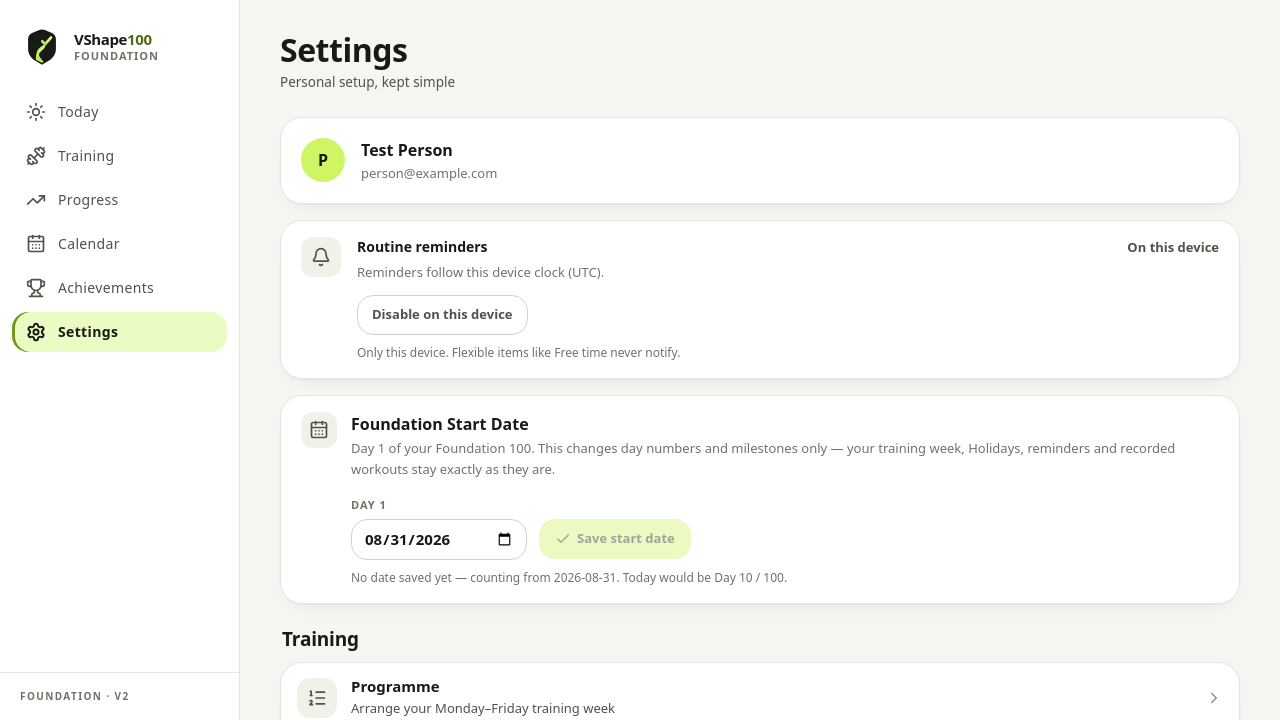
Test case: 4. an already-enabled device › says so honestly when disabling only half worked
Expected: the heading "Settings" is shown, [280,28,407,71]
Click the button "Disable on this device" at x=442, y=315, box [357,295,528,335]
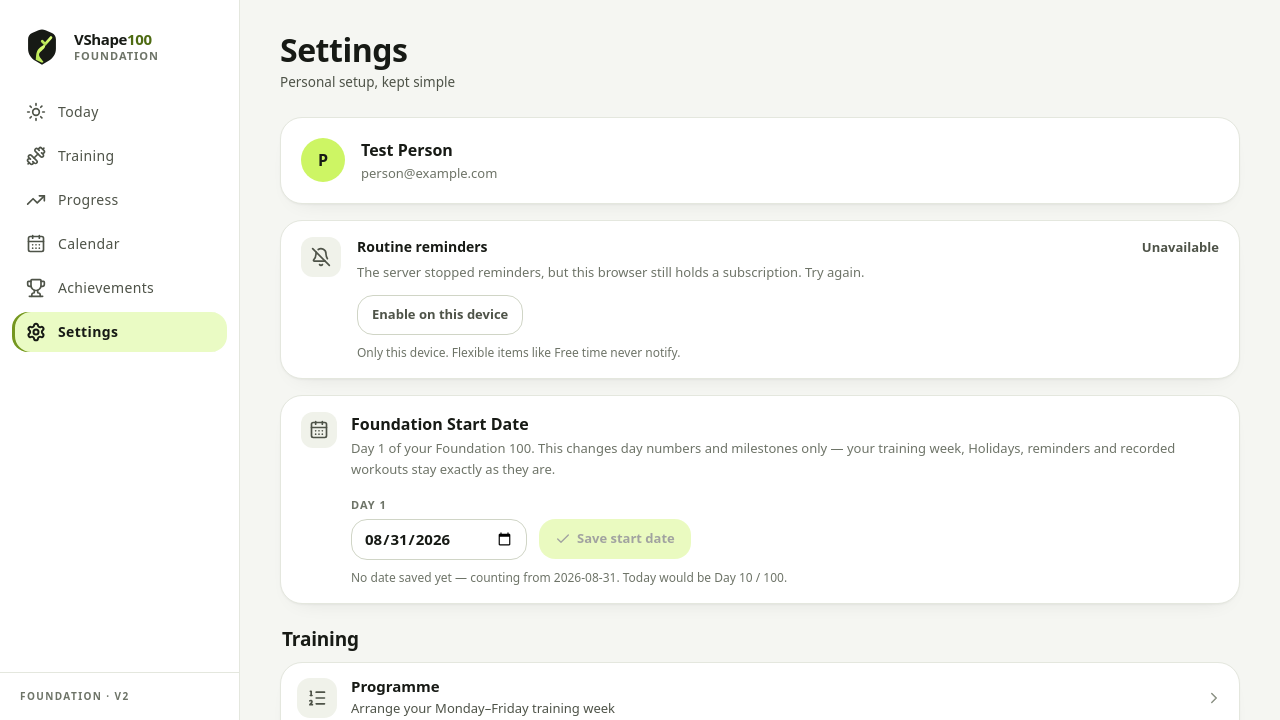
Expected: the element that starts with "Routine reminders" shows "this browser still holds a subscription", [357,263,864,281]
